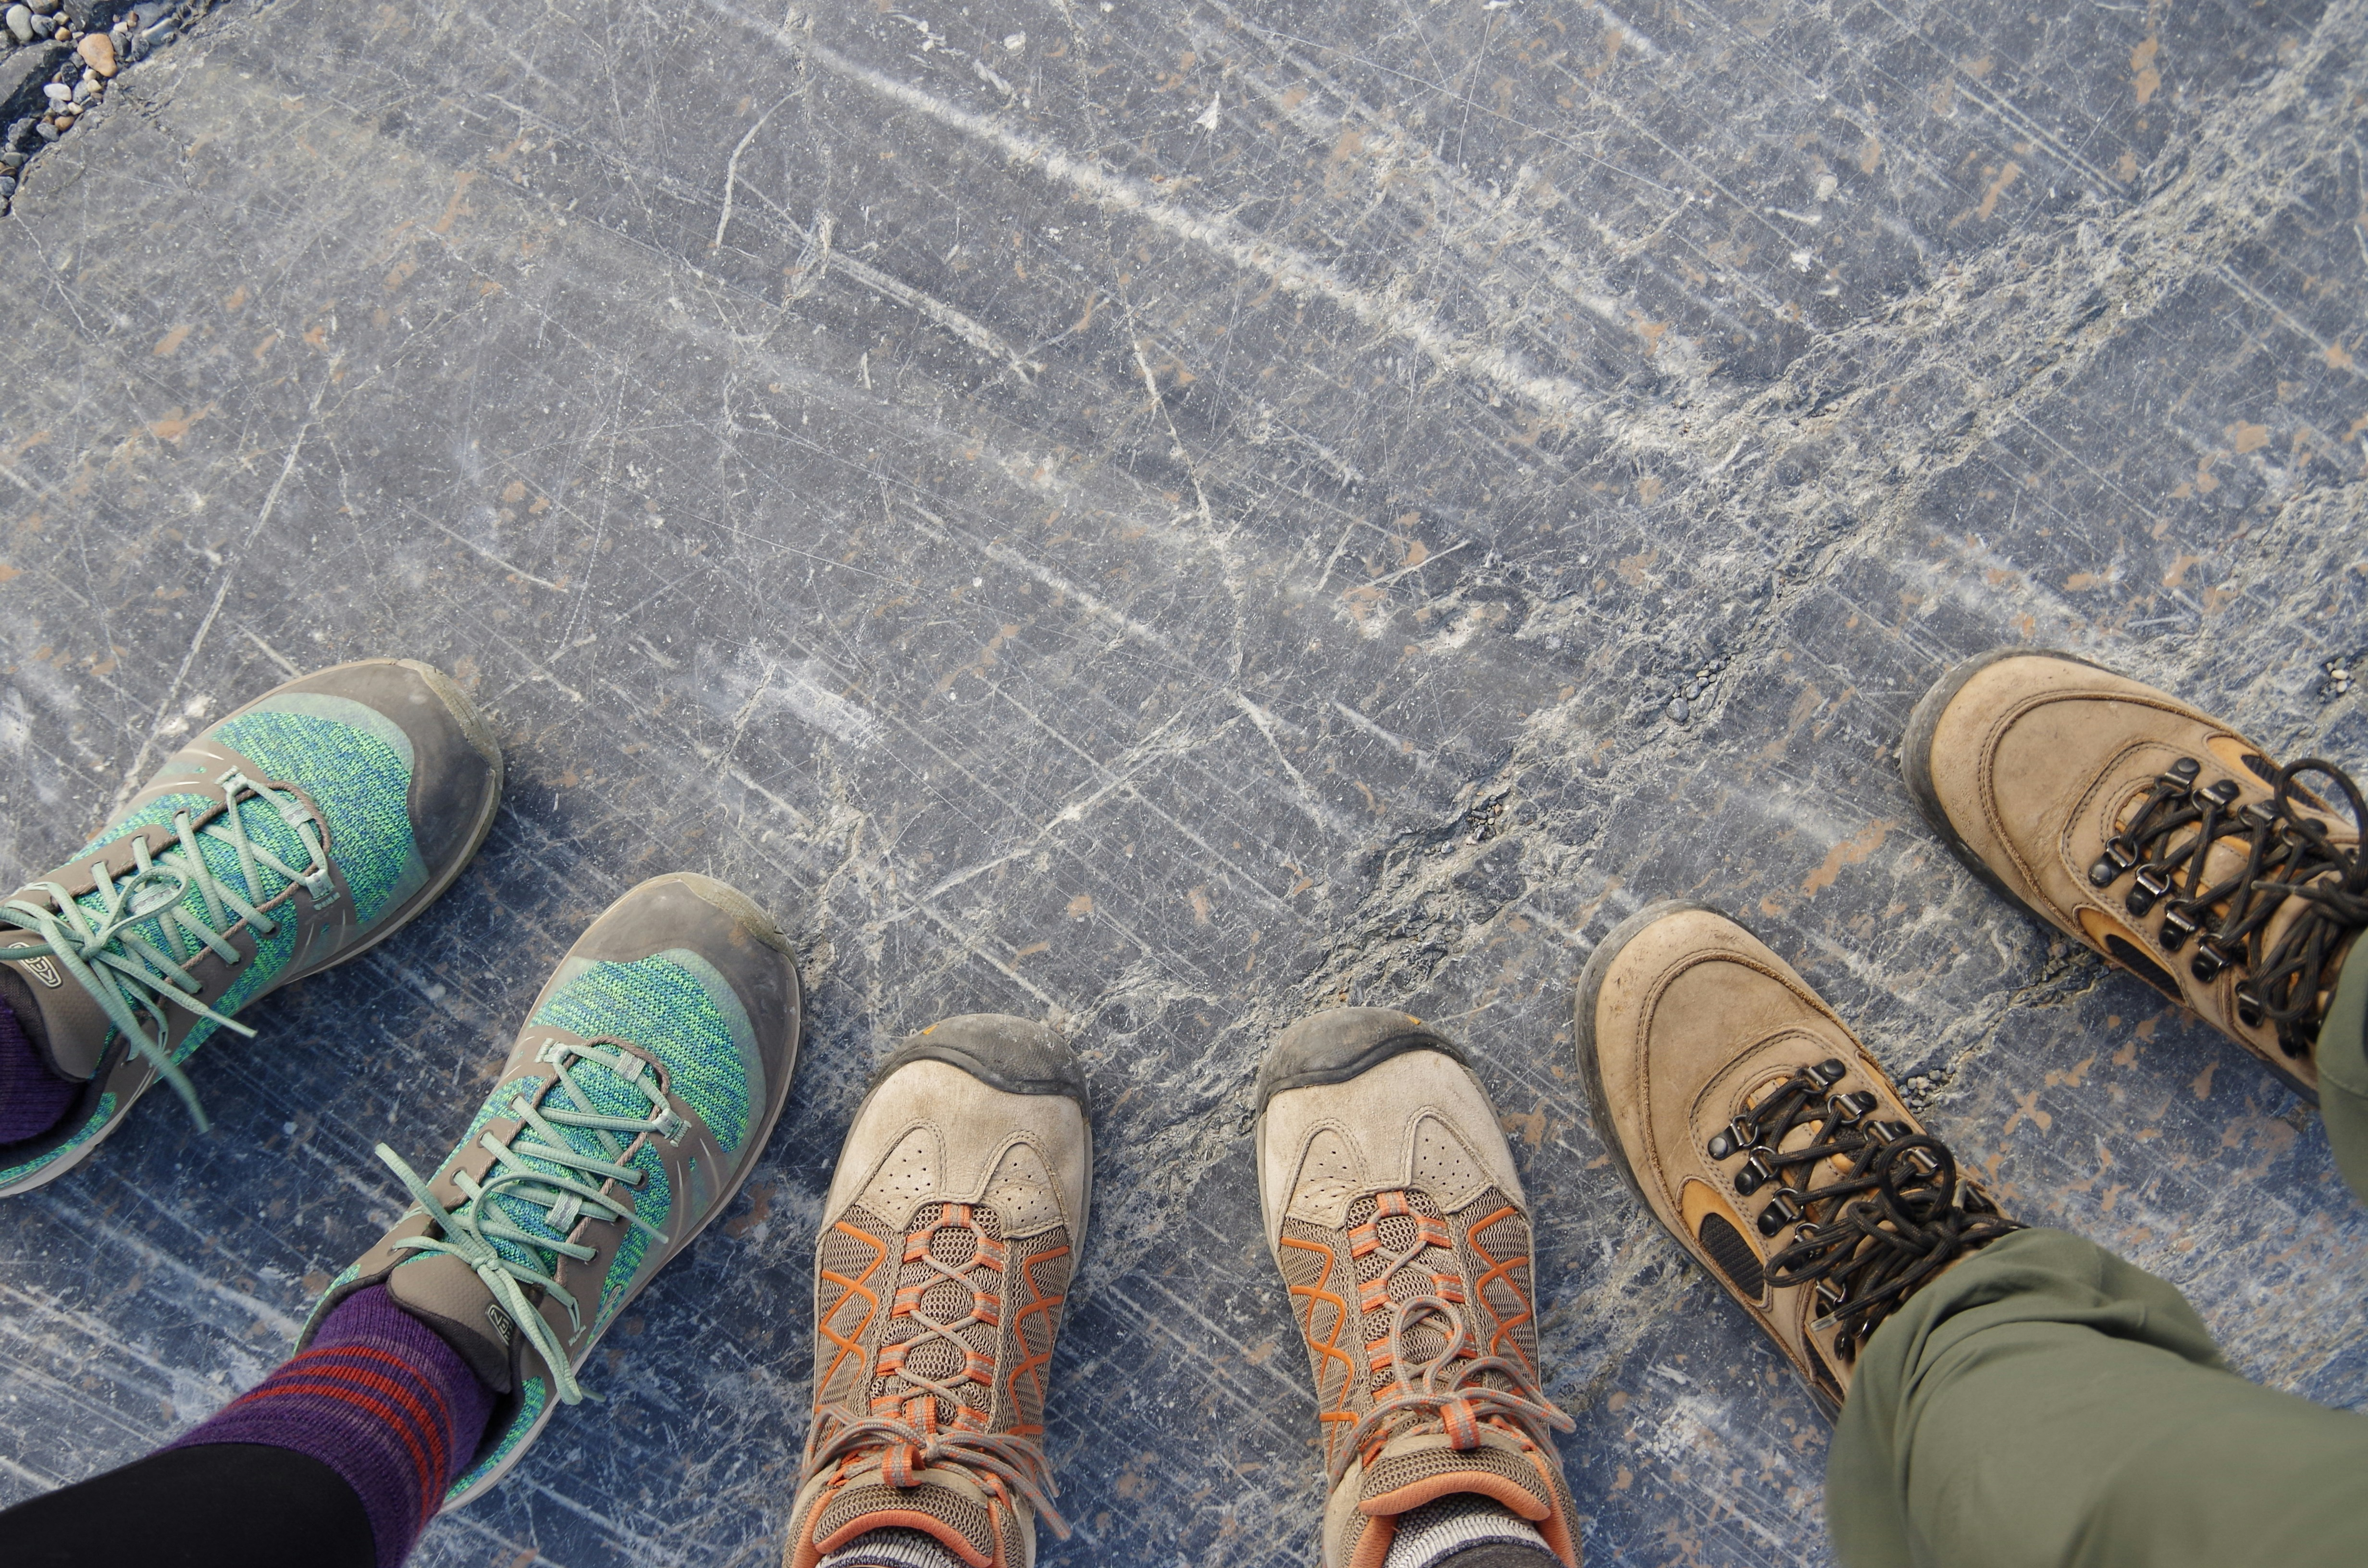Footwear: (333, 880, 809, 1417), (1545, 847, 2023, 1363), (809, 1010, 1096, 1559)
